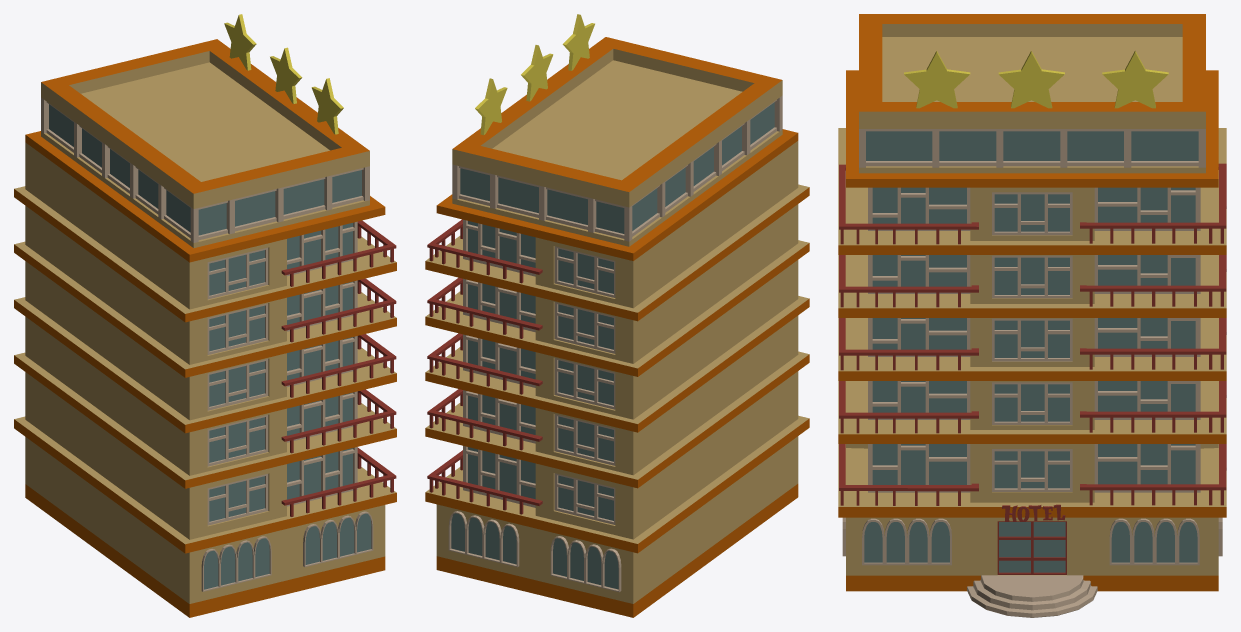
Rendered from Hotel(3star).fbx.
3 renders of one model, left to right at view 1: azimuth 30°, elevation 25°; view 2: azimuth 150°, elevation 25°; view 3: azimuth 270°, elevation 25°, orthographic. The views are drawn at different scales.
Parts seen in each view (by area): view 1: Hotel(3star); view 2: Hotel(3star); view 3: Hotel(3star).
Boxes of the visible parts, x1,y1,x2,y2 form: Hotel(3star): [14, 14, 396, 617]; Hotel(3star): [425, 14, 809, 617]; Hotel(3star): [838, 14, 1226, 617].
Bounding box in the file's own units: 1554 × 2745 × 1824.
